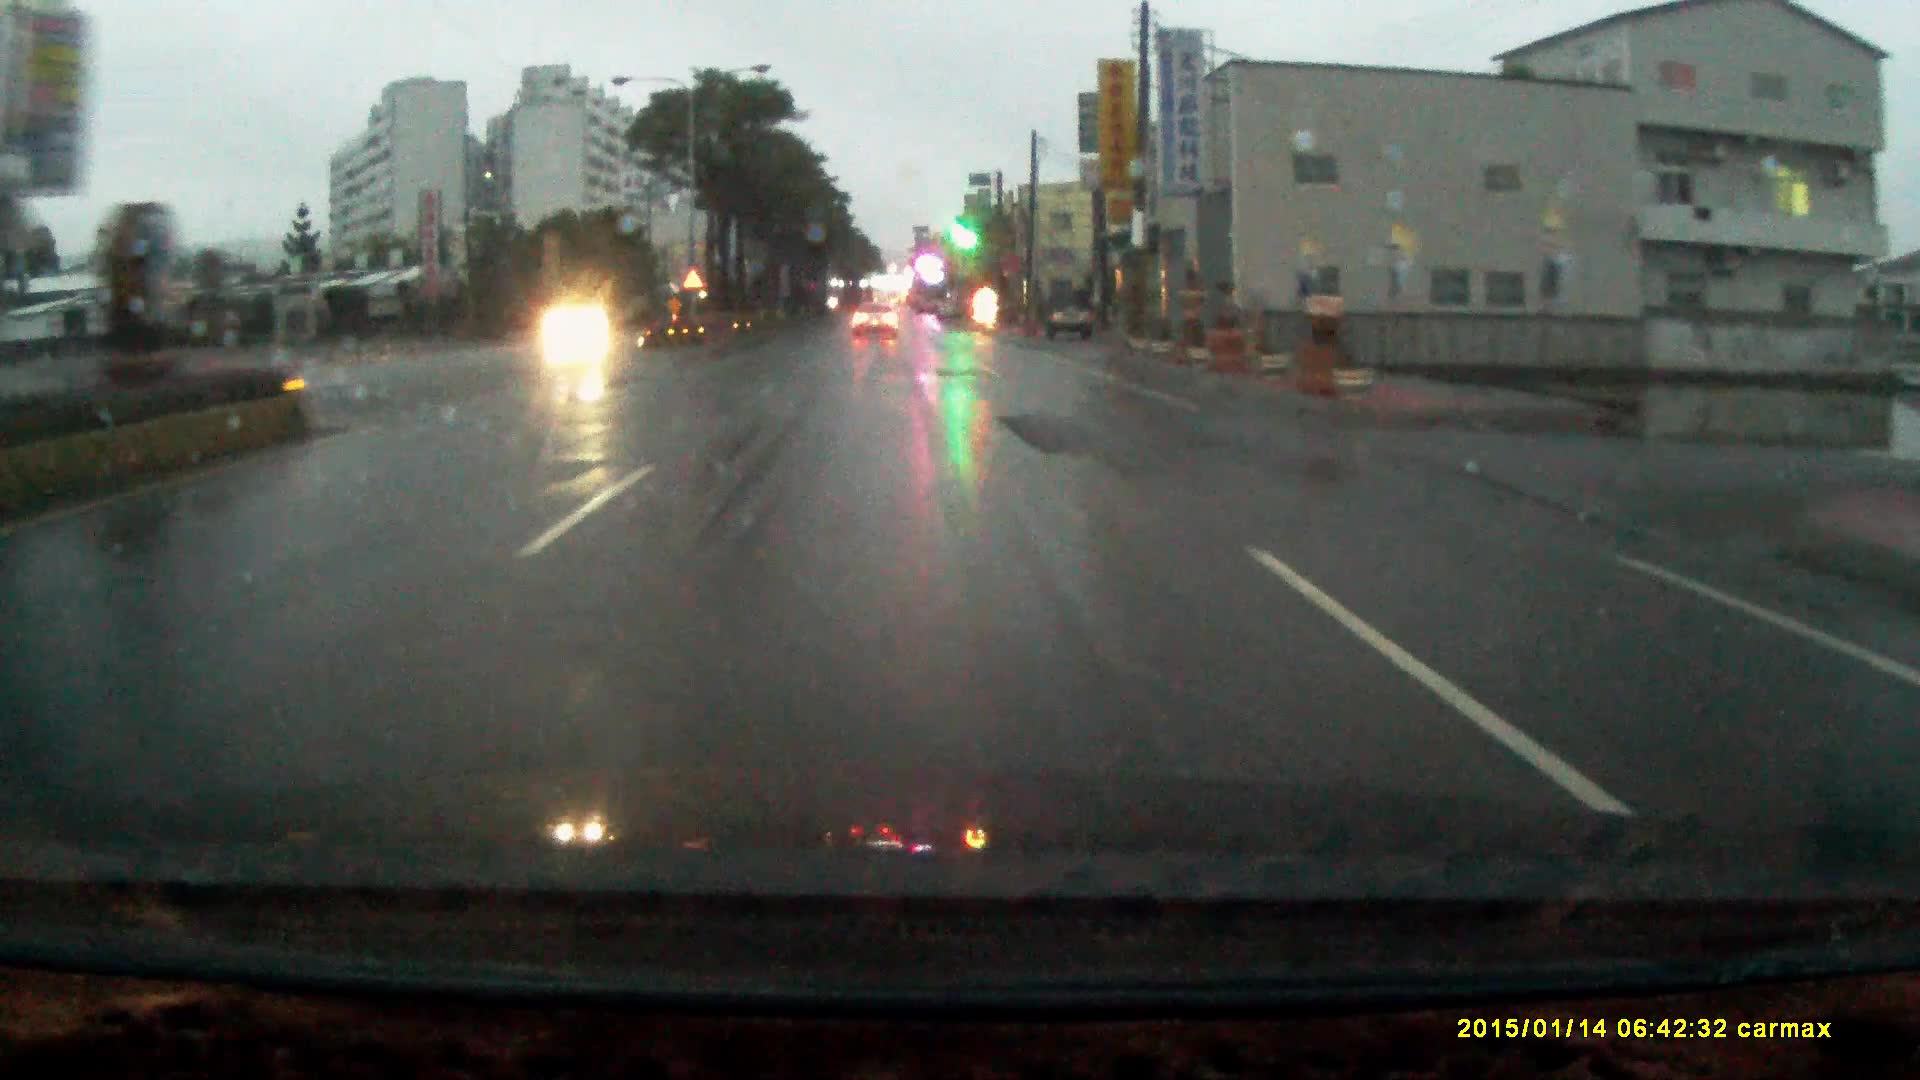vehicle: (1048, 287, 1101, 342), (851, 302, 899, 338)
